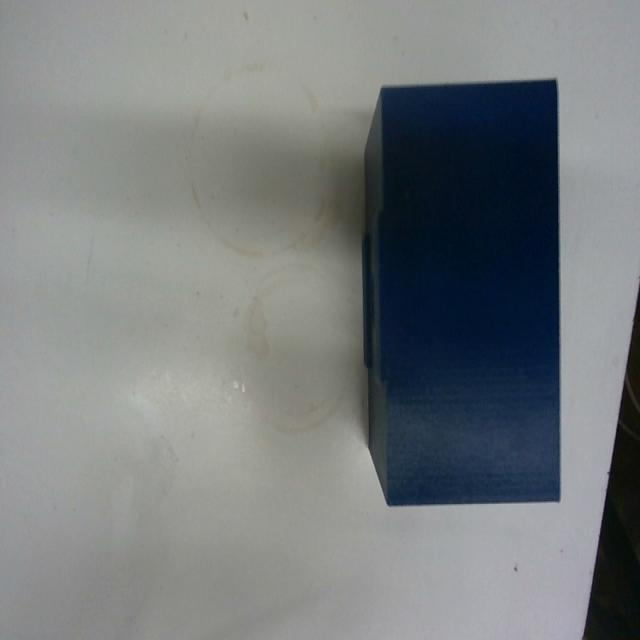Blue Cuboid: (359, 75, 562, 508)
